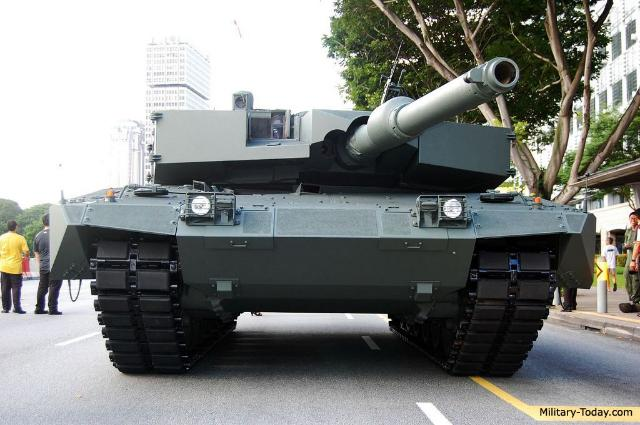tank: (51, 100, 589, 369)
